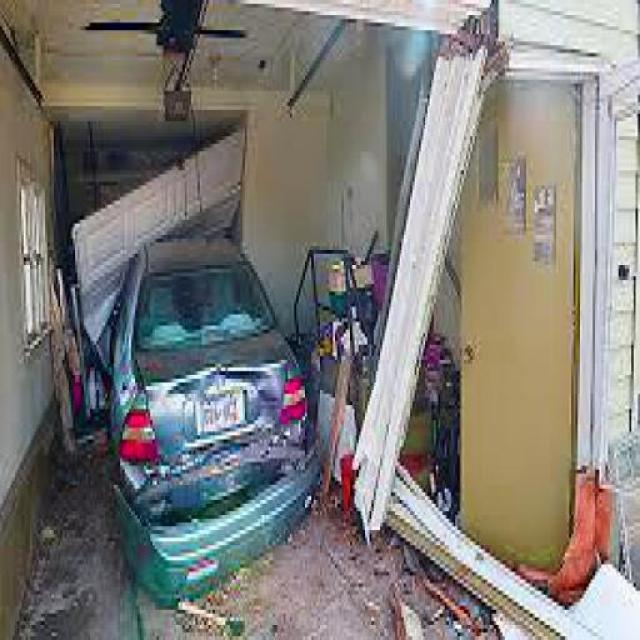car damage: (120, 364, 310, 574)
